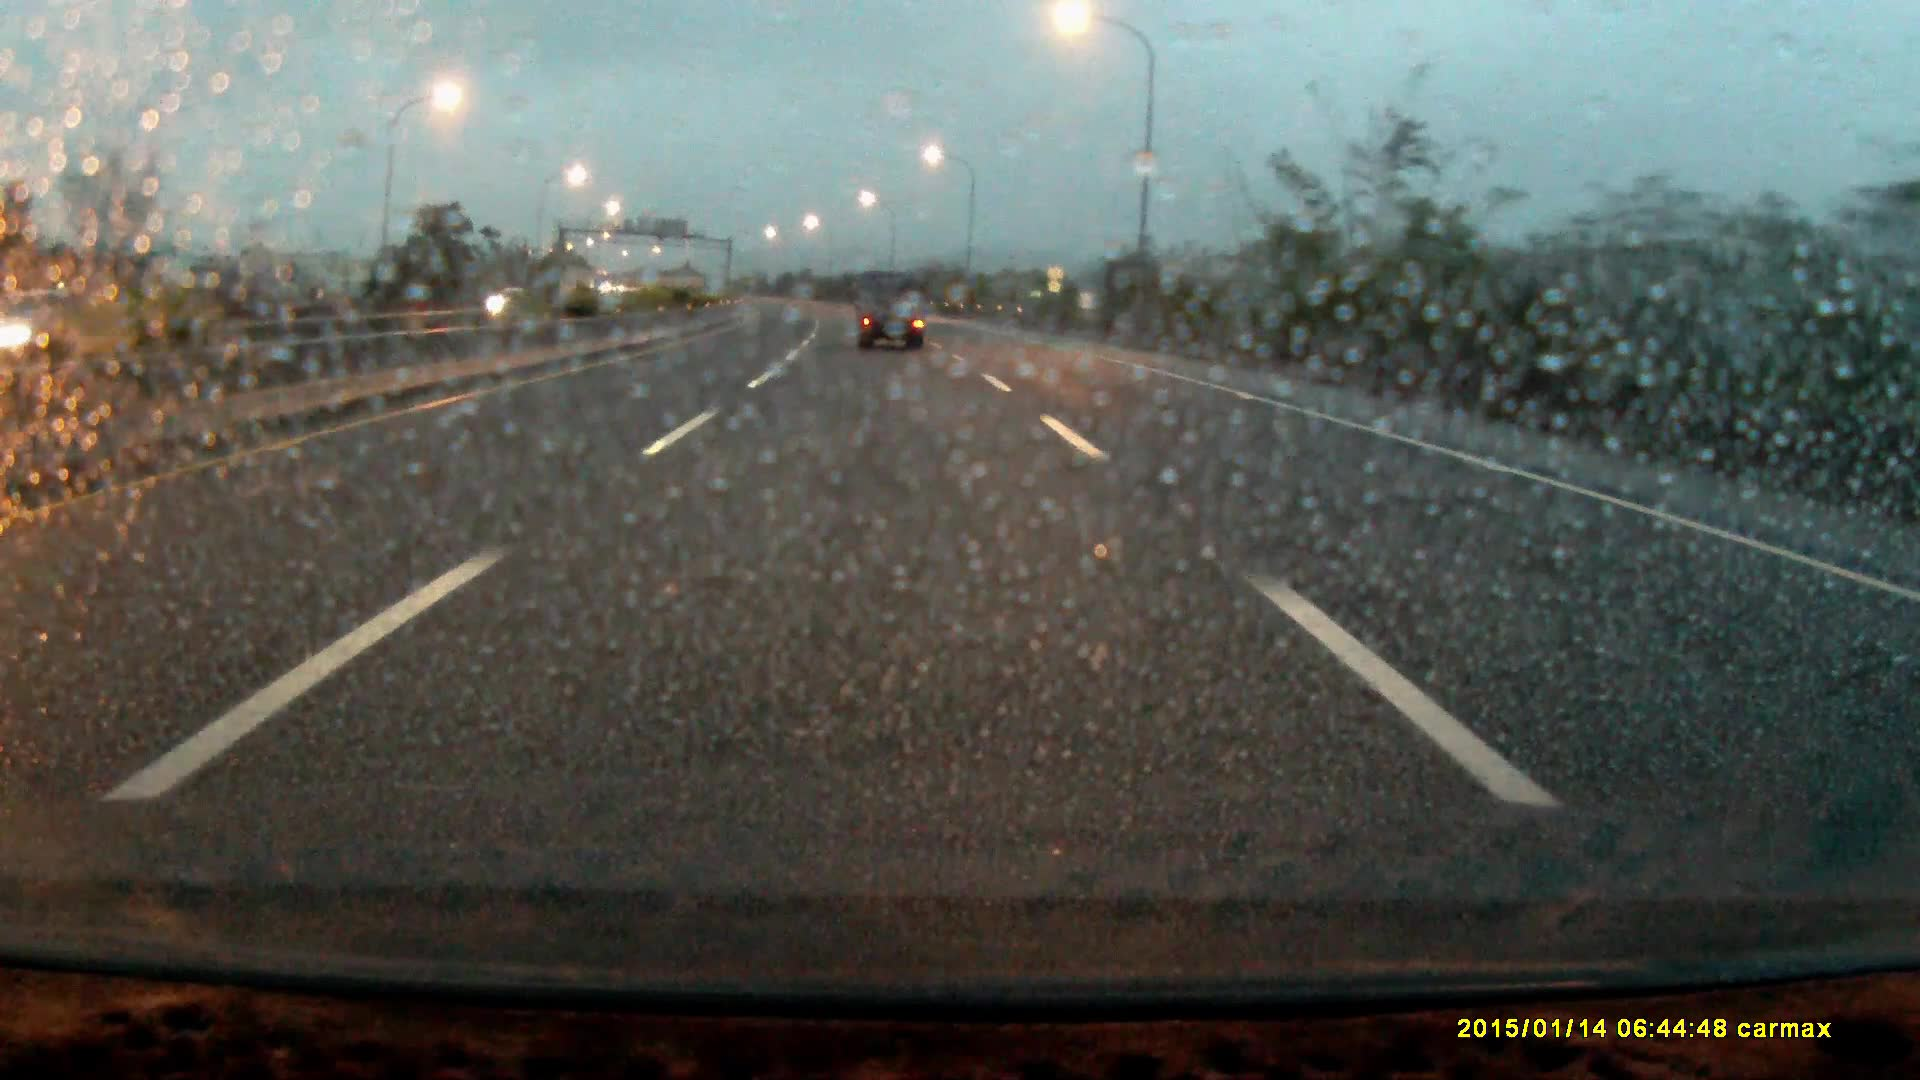vehicle: (855, 272, 926, 352), (487, 286, 551, 320)
